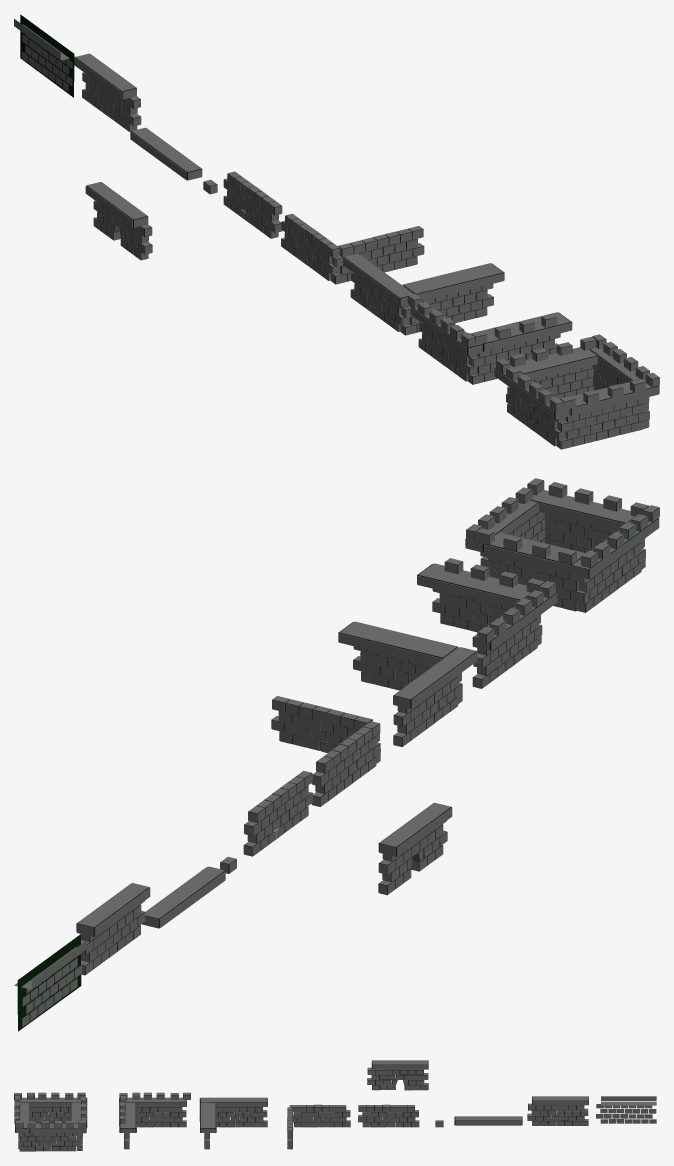
The model's file is Z_StoneBuildingParts.fbx.
3 views of the same model, one above another, from view 1: azimuth 30°, elevation 25°; view 2: azimuth 150°, elevation 25°; view 3: azimuth 270°, elevation 25° (orthographic). The views are drawn at different scales.
Visible parts, largest first — view 1: TowerTurret, CornerWithSlab, TurretCorner, Corner, WallWithSlab, WallWithDoor, FacadWall, Wall, Slab; view 2: TowerTurret, TurretCorner, CornerWithSlab, Corner, WallWithDoor, WallWithSlab, FacadWall, Wall, Slab; view 3: TowerTurret, TurretCorner, CornerWithSlab, WallWithSlab, WallWithDoor, FacadWall, Corner, Wall, Slab.
Part boxes in pixels (left/top/right/bottom): TowerTurret: left=494, top=334, right=659, bottom=449; CornerWithSlab: left=343, top=253, right=504, bottom=335; TurretCorner: left=407, top=294, right=572, bottom=384; Corner: left=281, top=213, right=424, bottom=284; WallWithSlab: left=74, top=53, right=141, bottom=131; WallWithDoor: left=85, top=182, right=152, bottom=260; FacadWall: left=14, top=14, right=75, bottom=97; Wall: left=223, top=171, right=282, bottom=238; Slab: left=130, top=127, right=202, bottom=180; TowerTurret: left=465, top=478, right=659, bottom=612; TurretCorner: left=417, top=558, right=557, bottom=688; CornerWithSlab: left=338, top=621, right=477, bottom=746; Corner: left=271, top=696, right=380, bottom=806; WallWithDoor: left=378, top=802, right=452, bottom=895; WallWithSlab: left=76, top=883, right=150, bottom=975; FacadWall: left=14, top=934, right=86, bottom=1031; Wall: left=243, top=771, right=312, bottom=856; Slab: left=142, top=866, right=225, bottom=928; TowerTurret: left=14, top=1092, right=87, bottom=1151; TurretCorner: left=119, top=1092, right=190, bottom=1149; CornerWithSlab: left=199, top=1097, right=267, bottom=1149; WallWithSlab: left=527, top=1096, right=588, bottom=1125; WallWithDoor: left=367, top=1060, right=428, bottom=1090; FacadWall: left=596, top=1096, right=656, bottom=1123; Corner: left=287, top=1104, right=350, bottom=1149; Wall: left=358, top=1104, right=419, bottom=1127; Slab: left=454, top=1116, right=522, bottom=1125.
Bounding box in the file's own units: 58.86 × 12.88 × 241.
